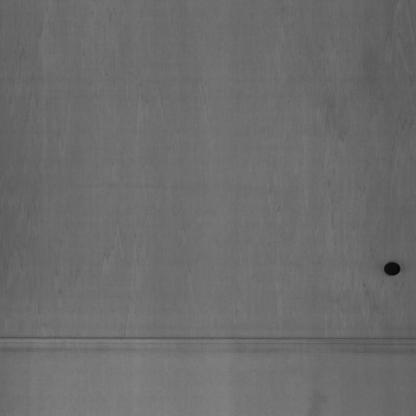punching_hole: (380, 255, 404, 279)
welding_line: (1, 328, 416, 353)
